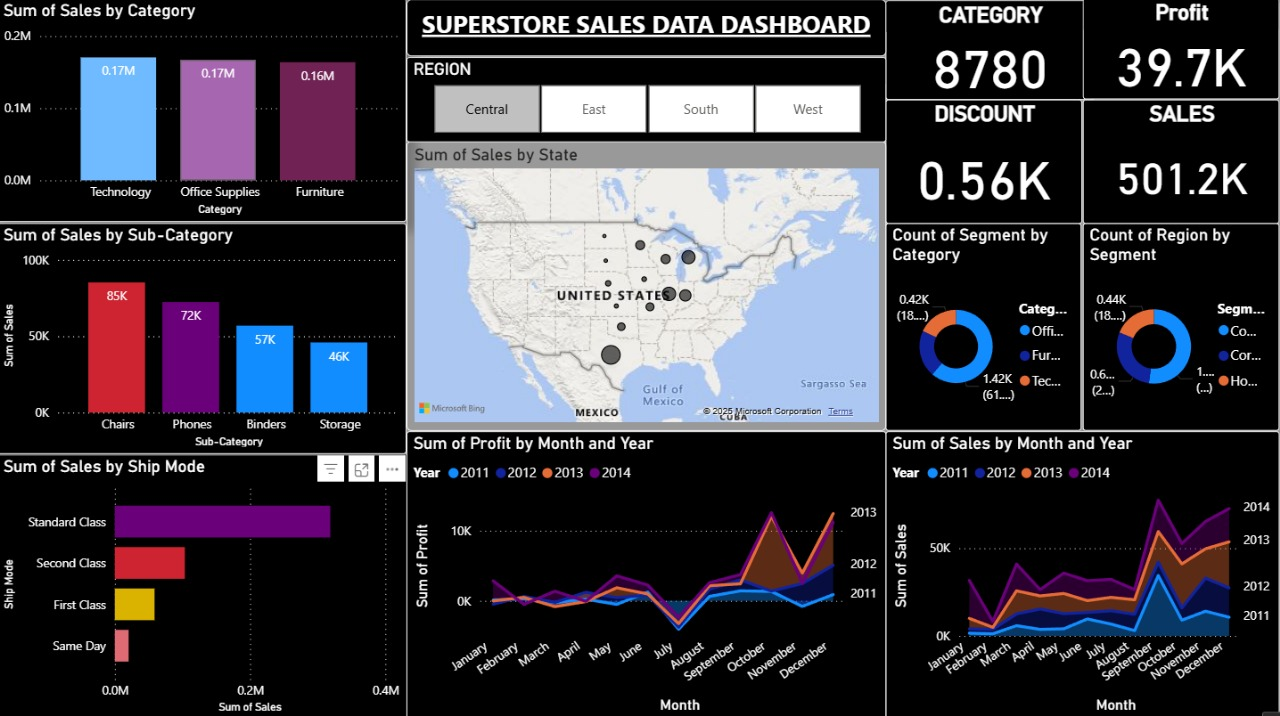

This screenshot's page, from the dashboard's own definition file:
{"tool":"powerbi","page":{"name":"Page 1","canvas":[1280,720],"ordinal":0},"visuals":[{"type":"clusteredColumnChart","fields":{"Category":["Orders.Category"],"Y":["Sum(Orders.Sales)"]},"box":[0,0,408.6,223.3],"z":0},{"type":"stackedAreaChart","fields":{"Y":["Sum(Orders.Sales)"],"Series":["Orders.Order Date.Variation.Date Hierarchy.Year"],"Category":["Orders.Order Date.Variation.Date Hierarchy.Month"]},"box":[887.1,431.9,392.6,288.3],"z":1000},{"type":"stackedAreaChart","fields":{"Series":["Orders.Order Date.Variation.Date Hierarchy.Year"],"Y":["Sum(Orders.Profit)"],"Category":["Orders.Order Date.Variation.Date Hierarchy.Month"]},"box":[408.6,431.9,478.5,288.3],"z":2000},{"type":"columnChart","fields":{"Category":["Orders.Sub-Category"],"Y":["Sum(Orders.Sales)"]},"box":[0,224.5,408.6,230.7],"z":3000},{"type":"barChart","fields":{"Category":["Orders.Ship Mode"],"Y":["Sum(Orders.Sales)"]},"box":[0,455.2,408.6,265],"z":4000},{"type":"donutChart","fields":{"Category":["Orders.Category"],"Y":["CountNonNull(Orders.Segment)"]},"box":[887.1,224.5,195.1,207.4],"z":5000},{"type":"donutChart","fields":{"Y":["CountNonNull(Orders.Region)"],"Category":["Orders.Segment"]},"box":[1083.4,224.5,196.3,207.4],"z":6000},{"type":"card","title":"SALES","fields":{"Values":["Sum(Orders.Sales)"]},"box":[1083.4,100.6,196.3,123.9],"z":7000},{"type":"card","title":"CATEGORY","fields":{"Values":["Sum(Orders.Quantity)"]},"box":[887.1,2.5,208.6,99.4],"z":8000},{"type":"card","title":"Profit","fields":{"Values":["Sum(Orders.Profit)"]},"box":[1083.4,0,196.3,100.6],"z":9000},{"type":"card","title":"DISCOUNT","fields":{"Values":["Sum(Orders.Discount)"]},"box":[887.1,100.6,196.3,123.9],"z":10000},{"type":"map","fields":{"Category":["Orders.State"],"Size":["Sum(Orders.Sales)"]},"box":[408.6,142.3,478.5,289.6],"z":11000},{"type":"slicer","title":"REGION","fields":{"Values":["Orders.Region"]},"box":[408.6,58.9,478.5,84.7],"z":12000},{"type":"textbox","box":[408.6,1.2,478.5,56.4],"z":12001}]}

Visuals, with their boxes in screenshot pixels (x1, y1, x2, y2), scaled from the page's 1280x720 canvas onto the 1280x716 screenshot:
clusteredColumnChart - Orders.Category x Sum(Orders.Sales): 0/0/409/222
stackedAreaChart - Sum(Orders.Sales) x Orders.Order Date.Variation.Date Hierarchy.Year: 887/430/1279/715
stackedAreaChart - Orders.Order Date.Variation.Date Hierarchy.Year x Sum(Orders.Profit): 409/430/887/715
columnChart - Orders.Sub-Category x Sum(Orders.Sales): 0/223/409/453
barChart - Orders.Ship Mode x Sum(Orders.Sales): 0/453/409/715
donutChart - Orders.Category x CountNonNull(Orders.Segment): 887/223/1082/430
donutChart - CountNonNull(Orders.Region) x Orders.Segment: 1083/223/1279/430
"SALES" card: 1083/100/1279/223
"CATEGORY" card: 887/2/1096/101
"Profit" card: 1083/0/1279/100
"DISCOUNT" card: 887/100/1083/223
map - Orders.State x Sum(Orders.Sales): 409/142/887/430
"REGION" slicer: 409/59/887/143
textbox: 409/1/887/57
